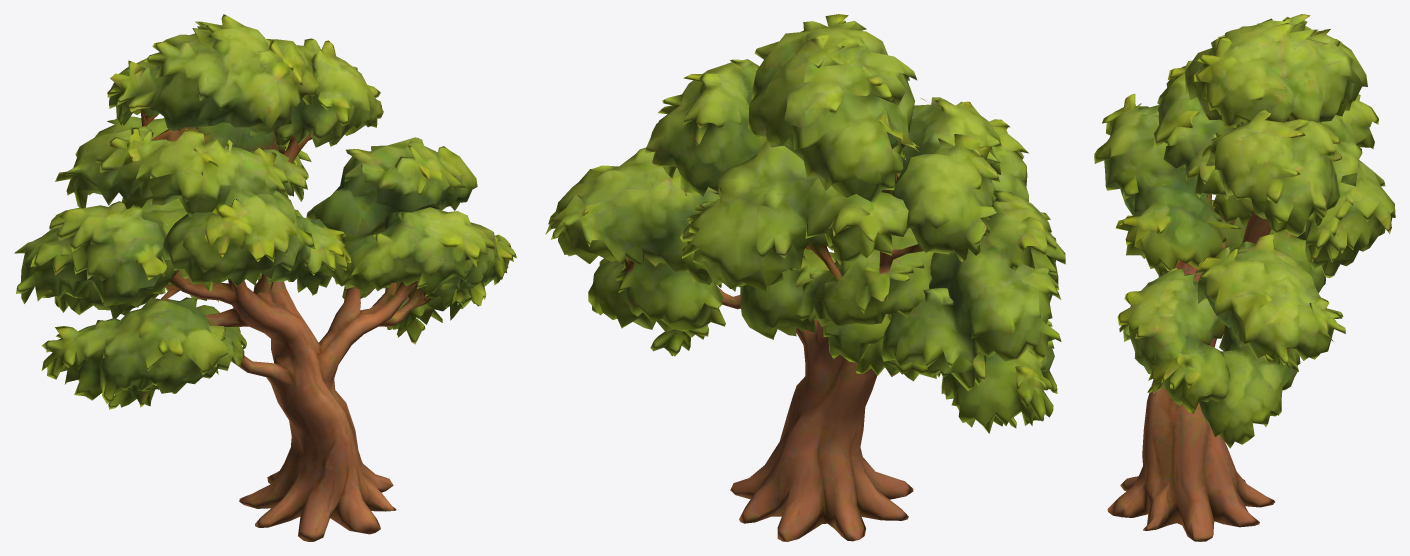
The model's file is tree.glb.
3 views of the same model, side by side, from view 1: azimuth 30°, elevation 25°; view 2: azimuth 150°, elevation 25°; view 3: azimuth 270°, elevation 25° (orthographic). The views are drawn at different scales.
Parts seen in each view (by area): view 1: geometry_0; view 2: geometry_0; view 3: geometry_0.
Part boxes in pixels (bbox=[...]): geometry_0: bbox=[14, 14, 516, 541]; geometry_0: bbox=[545, 14, 1065, 541]; geometry_0: bbox=[1094, 14, 1395, 541].
Bounding box in the file's own units: 0.9536 × 0.9311 × 0.5532.
Materials: 1 (1 with a texture image).
